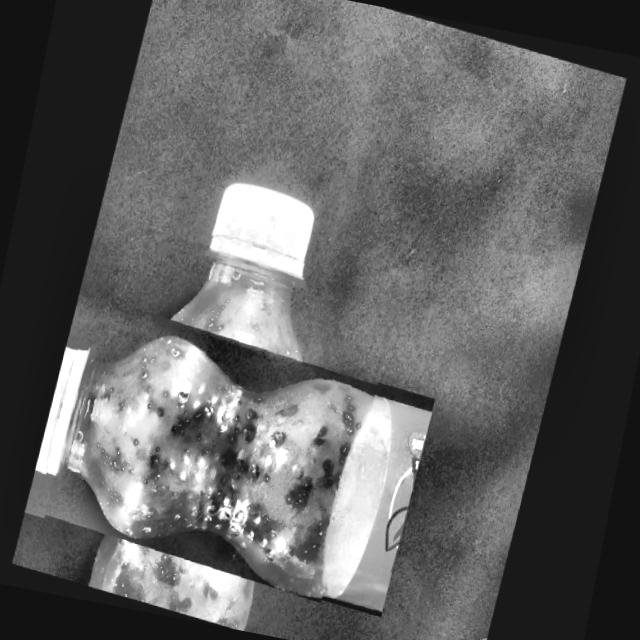Plastic-Bottle: (29, 216, 405, 640)
